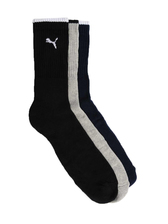sock: (25, 18, 145, 203)
